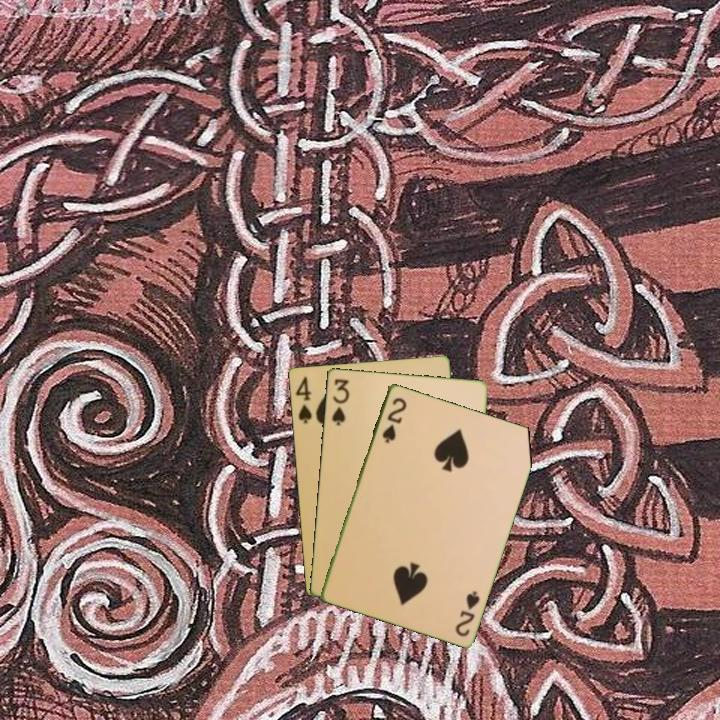2s: (378, 393, 409, 446), (451, 587, 482, 639)
3s: (328, 375, 352, 428)
4s: (291, 373, 314, 426)
